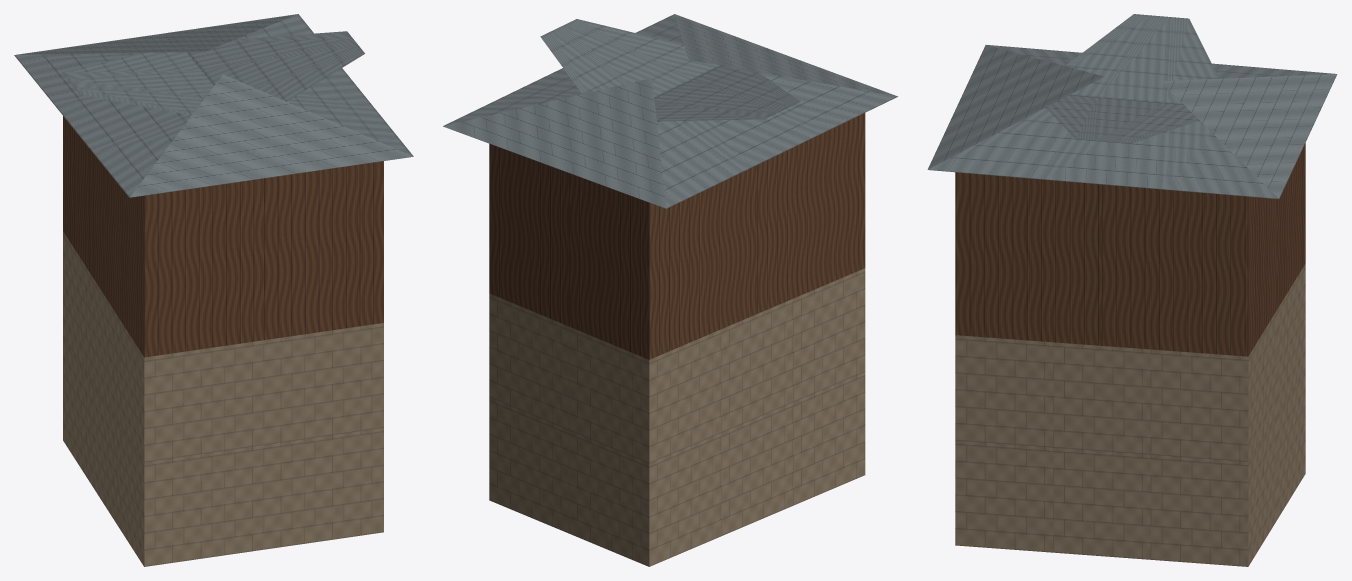
Rendered from bld_c23_-47_529.gltf.
3 views of the same model, side by side, from view 1: azimuth 30°, elevation 25°; view 2: azimuth 150°, elevation 25°; view 3: azimuth 270°, elevation 25° (orthographic).
Parts seen in each view (by area): view 1: bld_c23_-47_529; view 2: bld_c23_-47_529; view 3: bld_c23_-47_529.
Boxes of the visible parts, left/top/right/bottom form: bld_c23_-47_529: left=14, top=14, right=413, bottom=566; bld_c23_-47_529: left=443, top=14, right=897, bottom=566; bld_c23_-47_529: left=927, top=14, right=1337, bottom=566.
Size of the model in its own units: 7.69 by 9.9 by 8.62.
3 materials, 3 textured.
